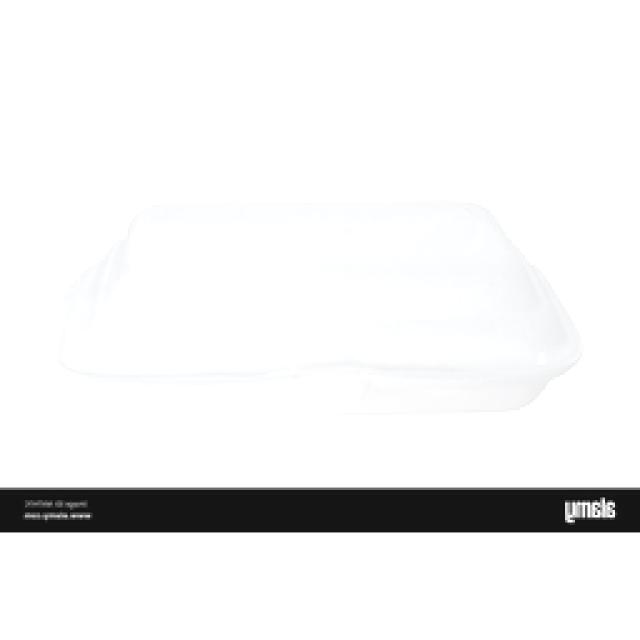inorganic: (33, 199, 590, 417)
